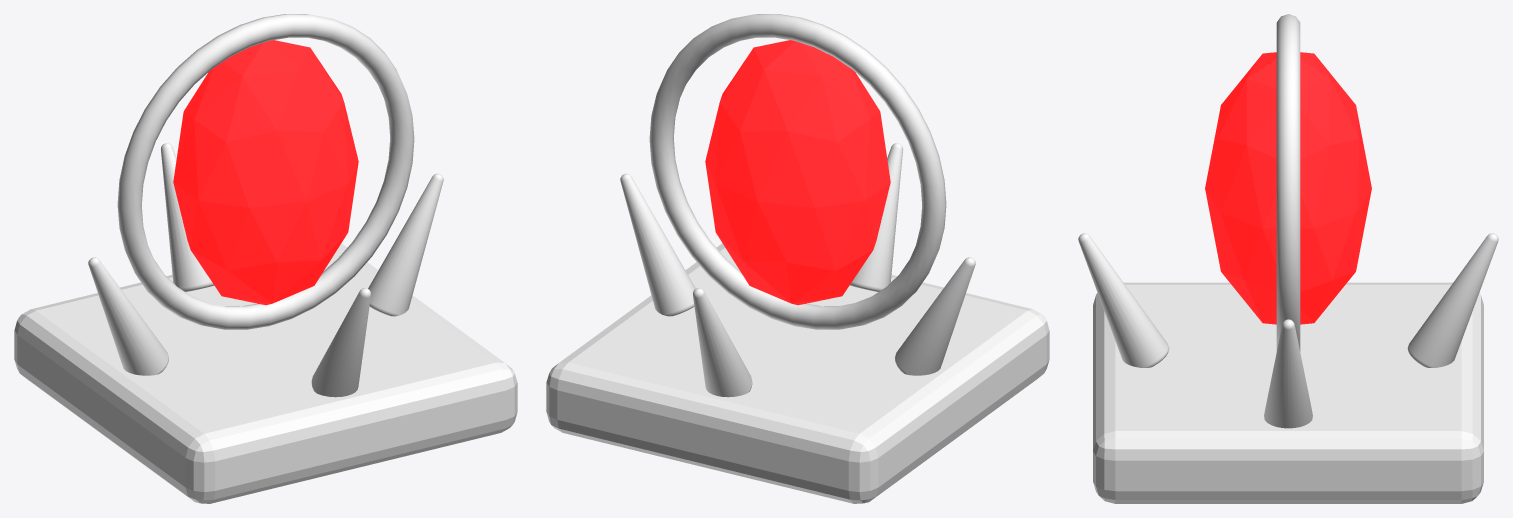
Rendered from heart.glb.
3 views of the same model, side by side, from view 1: azimuth 30°, elevation 25°; view 2: azimuth 150°, elevation 25°; view 3: azimuth 270°, elevation 25° (orthographic). The views are drawn at different scales.
Parts seen in each view (by area): view 1: Heart_Plinth, Heart_Crystal, Heart_Cage_A, Heart_Cage_B, Heart_Claw, Heart_Claw.002, Heart_Claw.003, Heart_Claw.001; view 2: Heart_Plinth, Heart_Crystal, Heart_Cage_A, Heart_Cage_B, Heart_Claw, Heart_Claw.002, Heart_Claw.001, Heart_Claw.003; view 3: Heart_Plinth, Heart_Crystal, Heart_Cage_A, Heart_Claw.001, Heart_Claw.003, Heart_Cage_B, Heart_Claw.
Boxes of the visible parts, x1,y1,x2,y2 form: Heart_Plinth: (14, 243, 517, 503); Heart_Crystal: (173, 40, 358, 305); Heart_Cage_A: (117, 14, 414, 329); Heart_Cage_B: (118, 14, 414, 329); Heart_Claw: (368, 173, 443, 316); Heart_Claw.002: (88, 257, 168, 375); Heart_Claw.003: (311, 288, 370, 397); Heart_Claw.001: (160, 143, 214, 291); Heart_Plinth: (546, 243, 1049, 503); Heart_Crystal: (705, 40, 890, 305); Heart_Cage_A: (649, 14, 946, 327); Heart_Cage_B: (651, 14, 945, 329); Heart_Claw: (620, 173, 695, 316); Heart_Claw.002: (895, 257, 975, 375); Heart_Claw.001: (693, 288, 752, 397); Heart_Claw.003: (849, 143, 903, 291); Heart_Plinth: (1093, 282, 1483, 503); Heart_Crystal: (1205, 52, 1371, 324); Heart_Cage_A: (1276, 17, 1300, 351); Heart_Claw.001: (1407, 233, 1498, 367); Heart_Claw.003: (1078, 233, 1169, 367); Heart_Cage_B: (1276, 14, 1300, 338); Heart_Claw: (1264, 319, 1312, 428).
Size of the model in its own units: 1.51 by 1.57 by 1.51.
